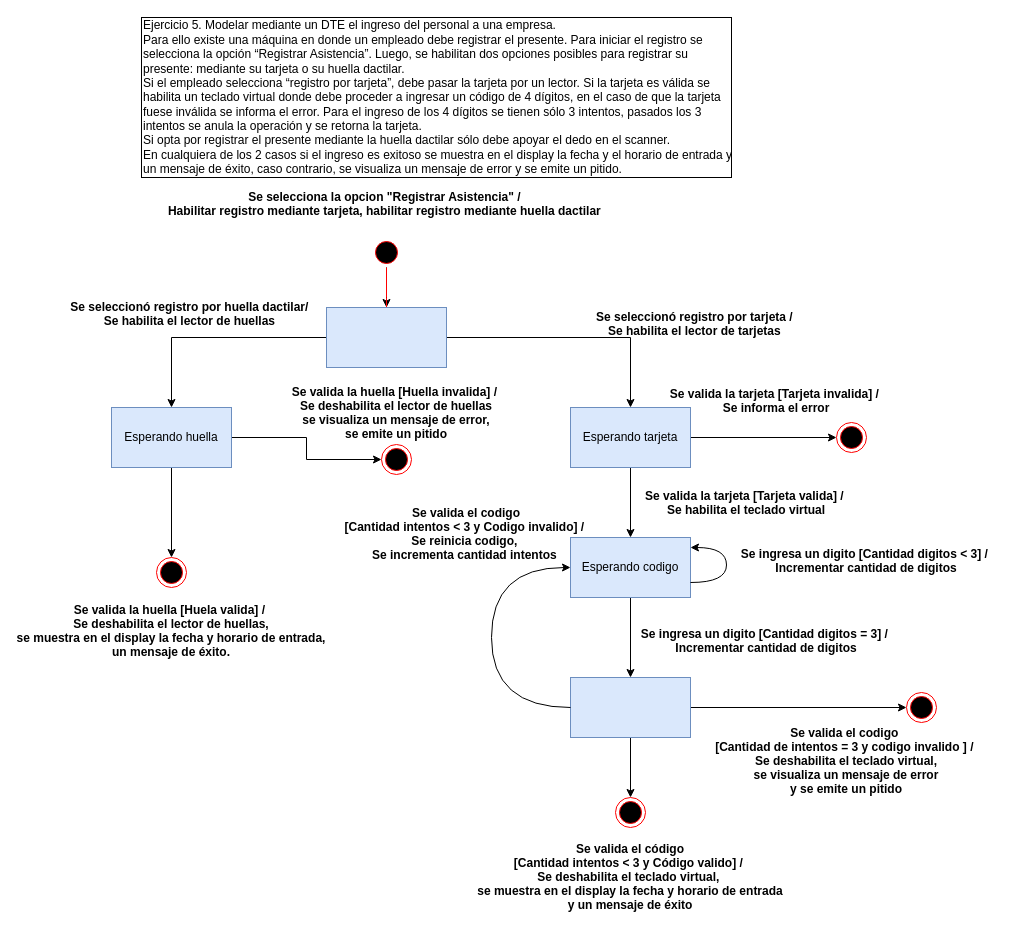
The diagram is 1009 pixels wide and 930 high, and some of its shapes have lost their labels. Here are the shapes that lost their labels. From the top down, the centre of each, then its label:
the point at 386,337: Esperando opcion de registro
the point at 630,707: Validando codigo
